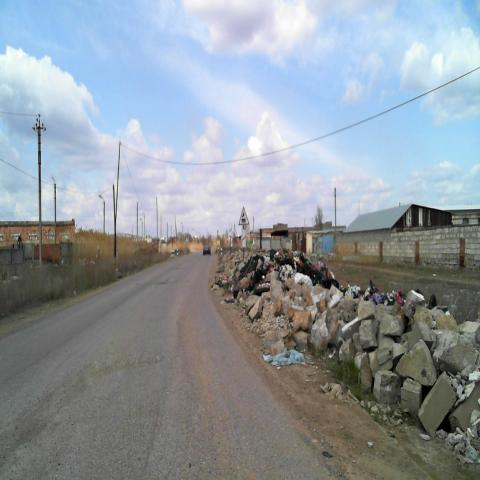1_2: (238, 207, 250, 226)
